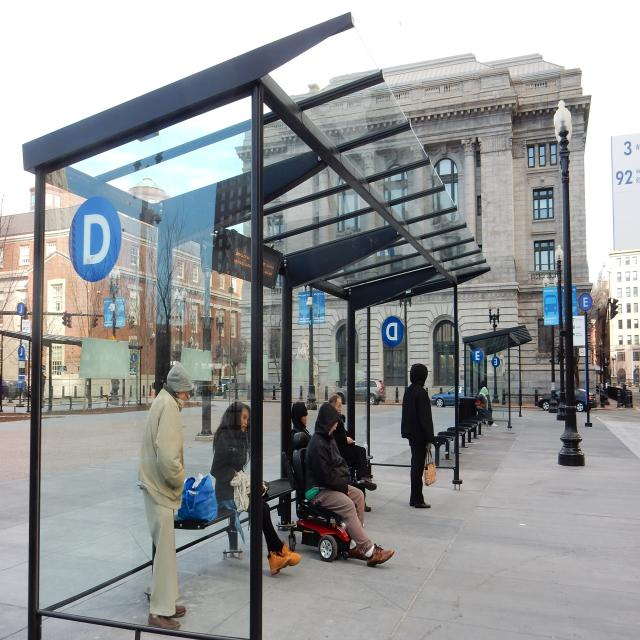body: (207, 399, 302, 577), (134, 360, 193, 632), (300, 400, 395, 568), (328, 392, 377, 512), (400, 361, 437, 510), (475, 378, 497, 429), (292, 400, 312, 448), (621, 380, 628, 409), (638, 382, 640, 392)
